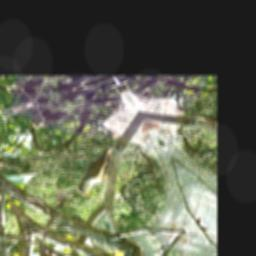Cuckoo: (54, 136, 149, 199)
